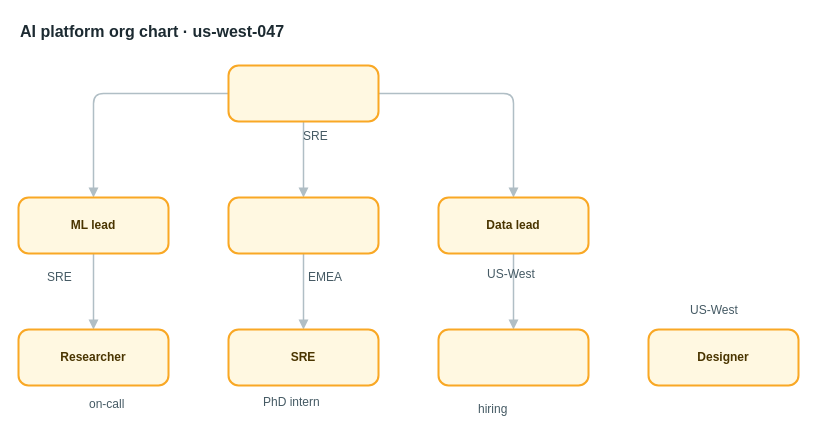
Image size: 816x434. Some labels were removed from this diagram. Here are the shapes that lost their labels. From the top down, the box of each, then its label:
(227, 64, 379, 122): Head of AI
(227, 196, 379, 254): Infra lead
(437, 328, 589, 386): Data engineer
